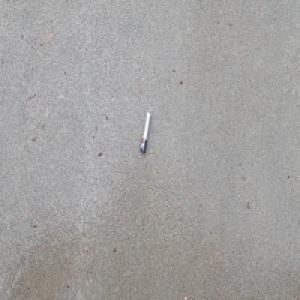Battery: (138, 110, 151, 154)
